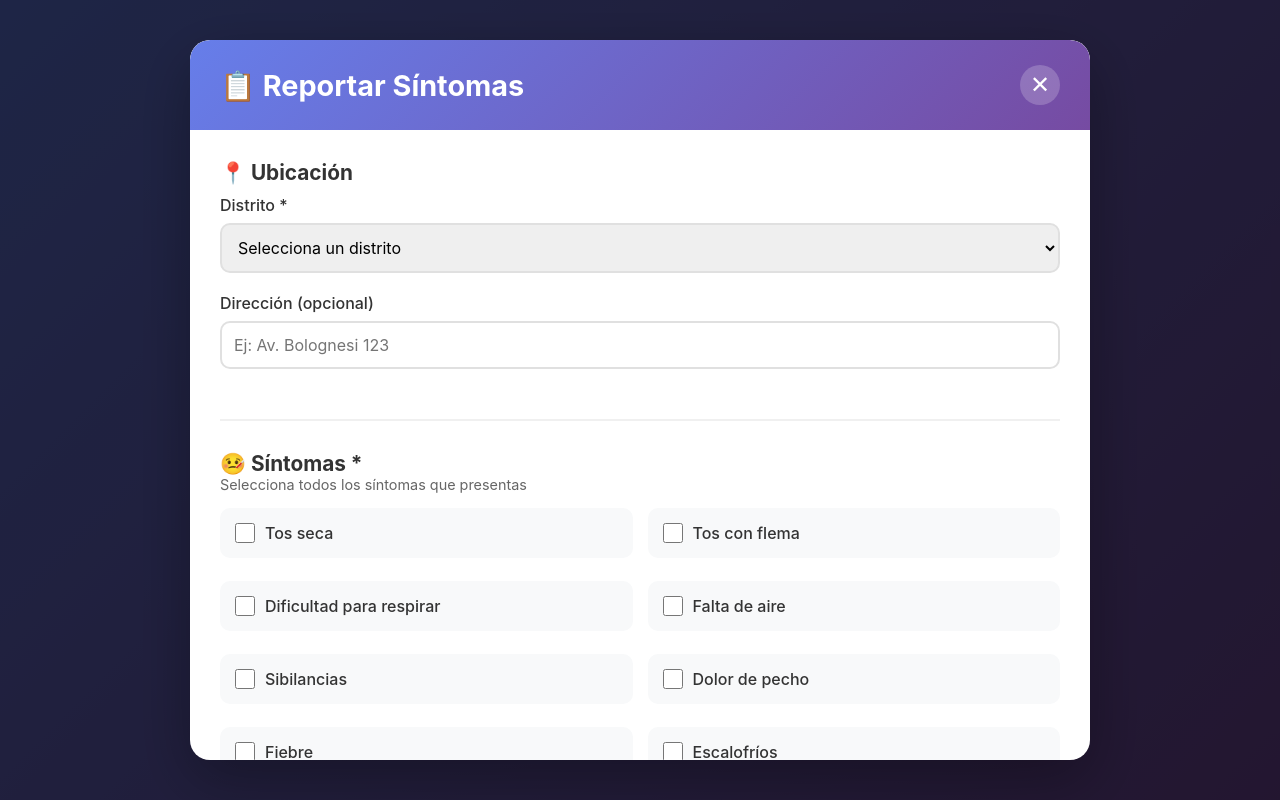
Test case: SymptomReportForm Component › Form Interactions › should display severity controls after selecting a symptom
Click the checkbox labelled "Tos seca" at point(245, 533), box x1=235 y1=523 x2=255 y2=543
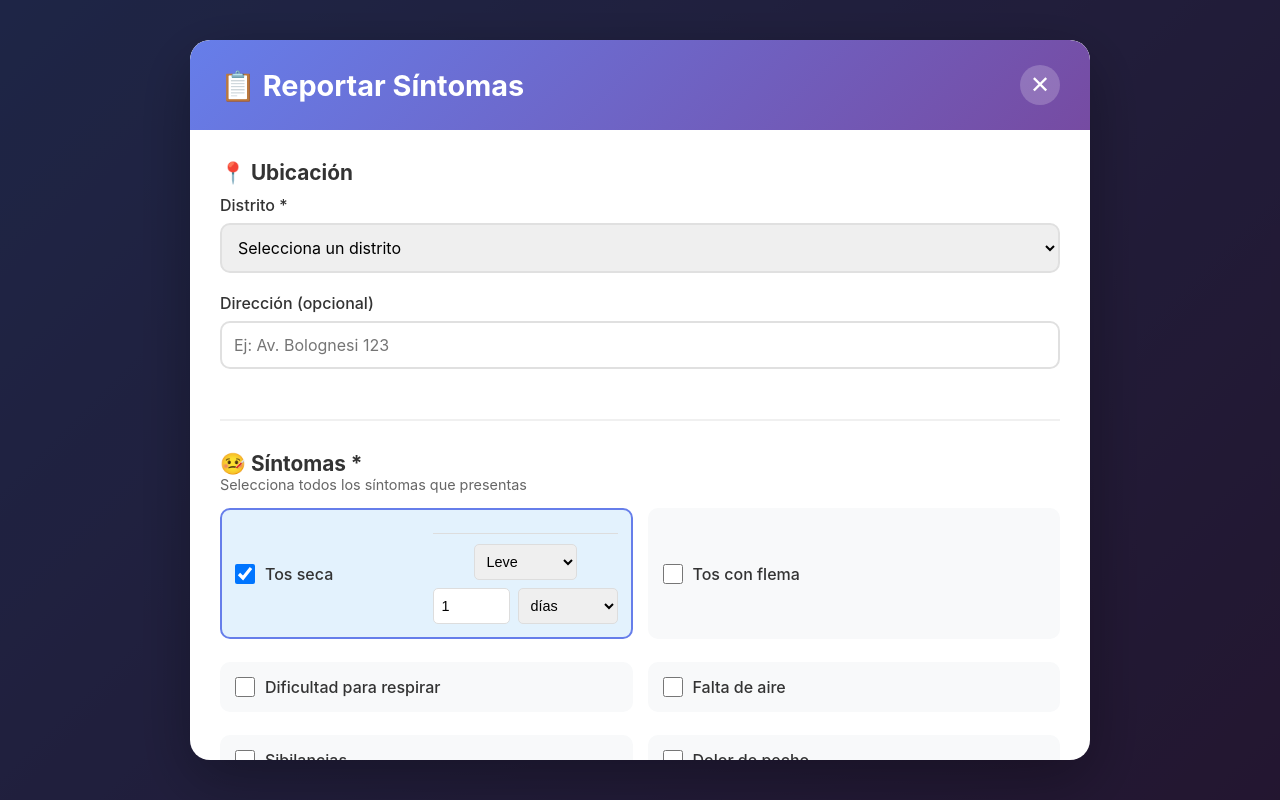
Expected: the 1st dropdown showing "Leve" is shown, x1=474 y1=544 x2=576 y2=580
